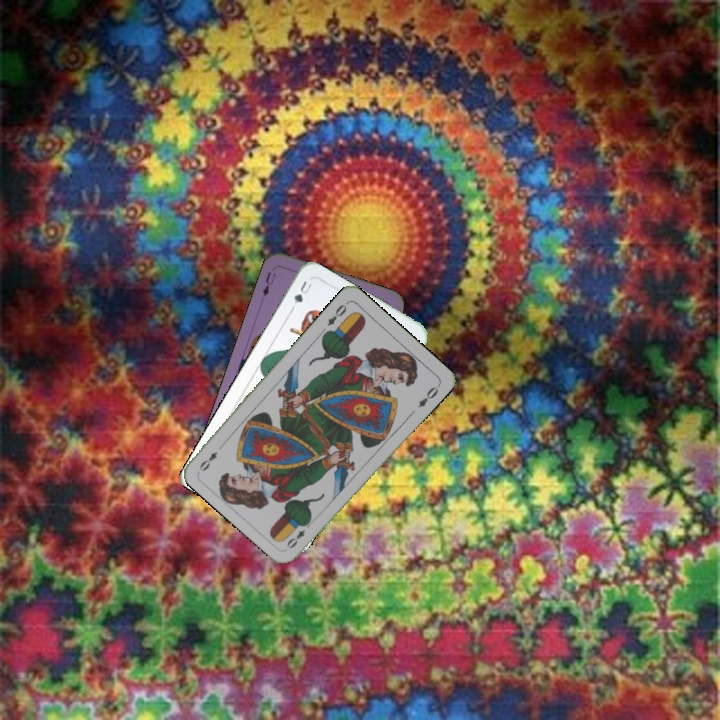EO: (283, 518, 314, 551), (323, 298, 350, 328)
EU: (258, 268, 278, 299)
GU: (287, 277, 314, 312)
